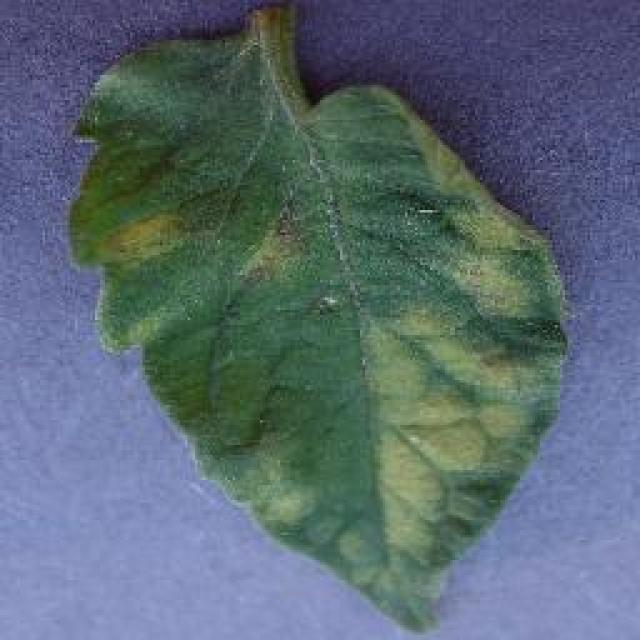Tomato___Leaf_Mold: (70, 8, 565, 628)
